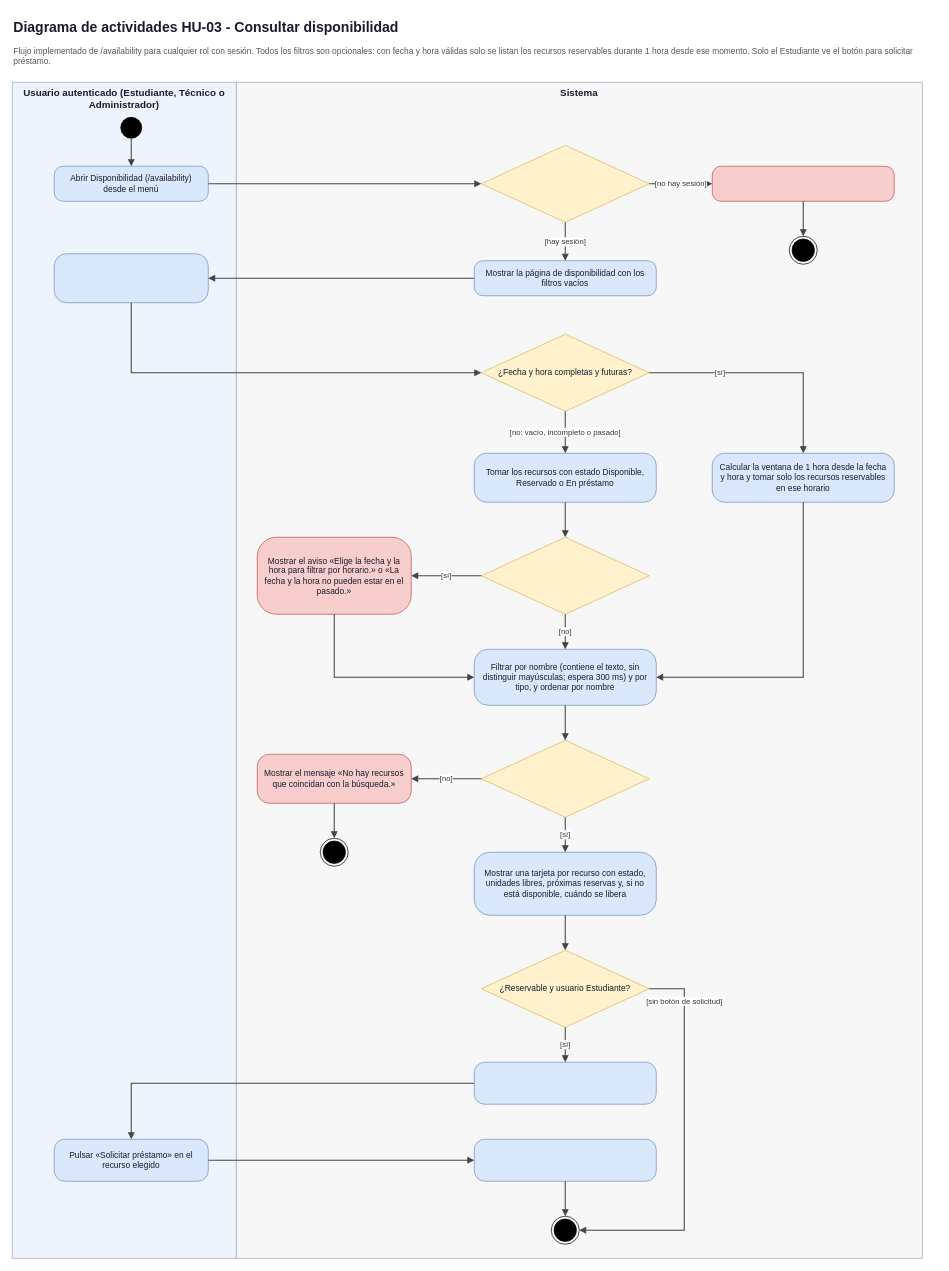
Image size: 949x1271. Some labels were removed from this diagram. Each missing label, with the centre of its shape:
Indicar los filtros que desee (todos opcionales): nombre, tipo, fecha y hora: point (131, 278)
Mostrar el botón «Solicitar préstamo» en la tarjeta del recurso: point (565, 1083)
Navegar a /loans/new/:resourceId con el recurso elegido: point (565, 1160)
Redirigir a /login: point (803, 183)
¿Fecha u hora incompleta o pasada?: point (565, 575)
¿Hay recursos en el resultado?: point (565, 778)
¿Hay sesión activa?: point (565, 183)
